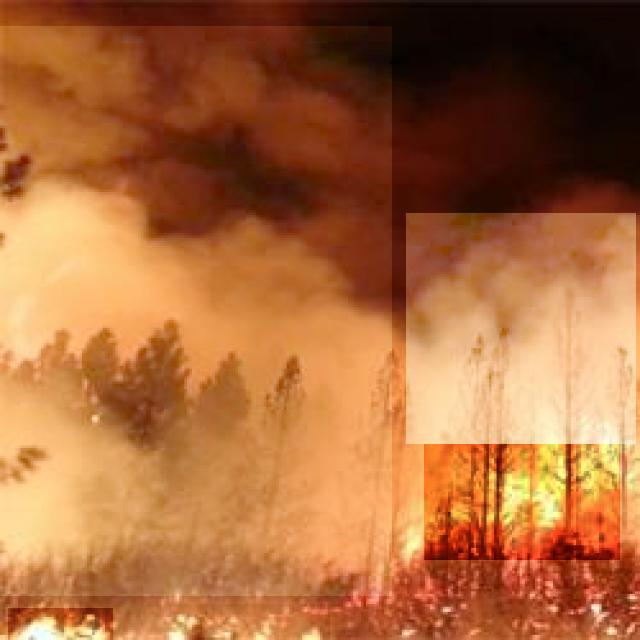Fire: (424, 410, 620, 560), (169, 604, 330, 640), (8, 608, 113, 640)
Smoke: (0, 26, 392, 596), (406, 213, 636, 444)
